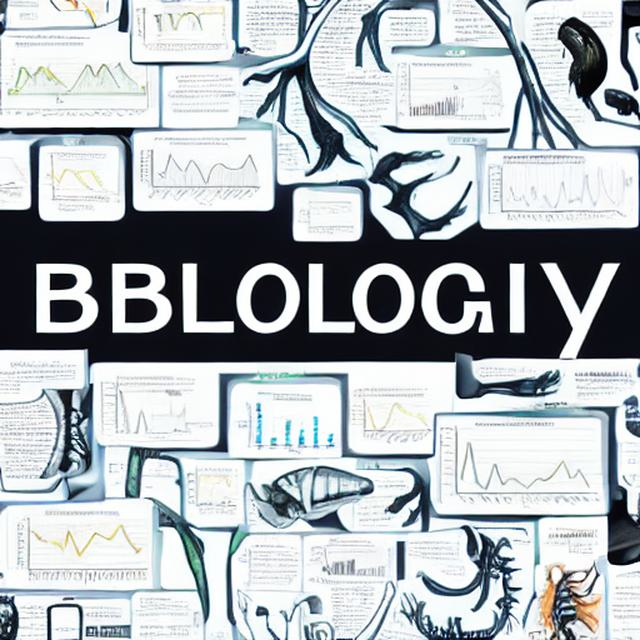Graph: (436, 420, 595, 512), (14, 508, 148, 585), (136, 134, 263, 209), (485, 160, 597, 224), (234, 395, 340, 457), (349, 393, 433, 444), (303, 200, 358, 233), (402, 89, 458, 121)
